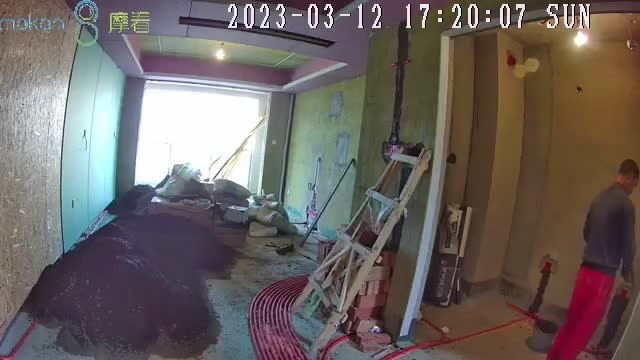people: (546, 158, 638, 360)
window: (135, 83, 259, 193)
